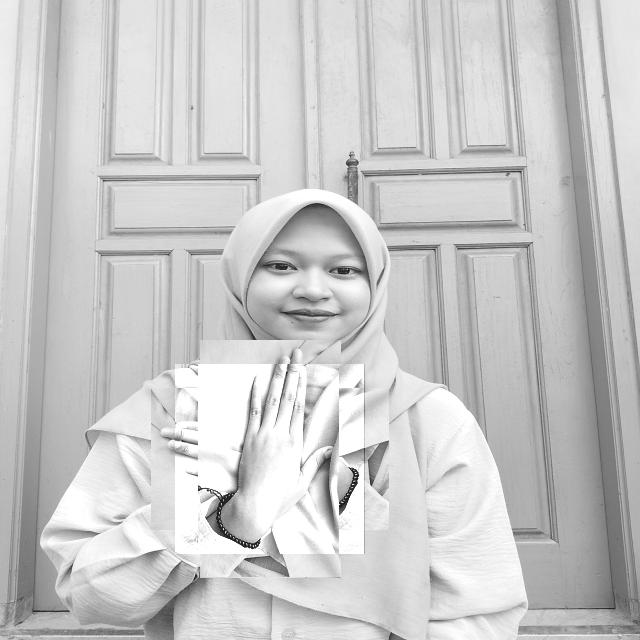tolong: (176, 364, 366, 554)
